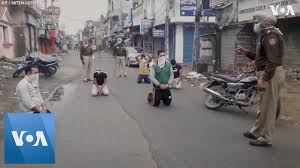mask: (250, 12, 273, 38), (25, 63, 42, 84), (157, 48, 166, 66), (82, 35, 88, 47), (169, 61, 176, 68), (139, 53, 145, 61), (115, 36, 121, 43)
